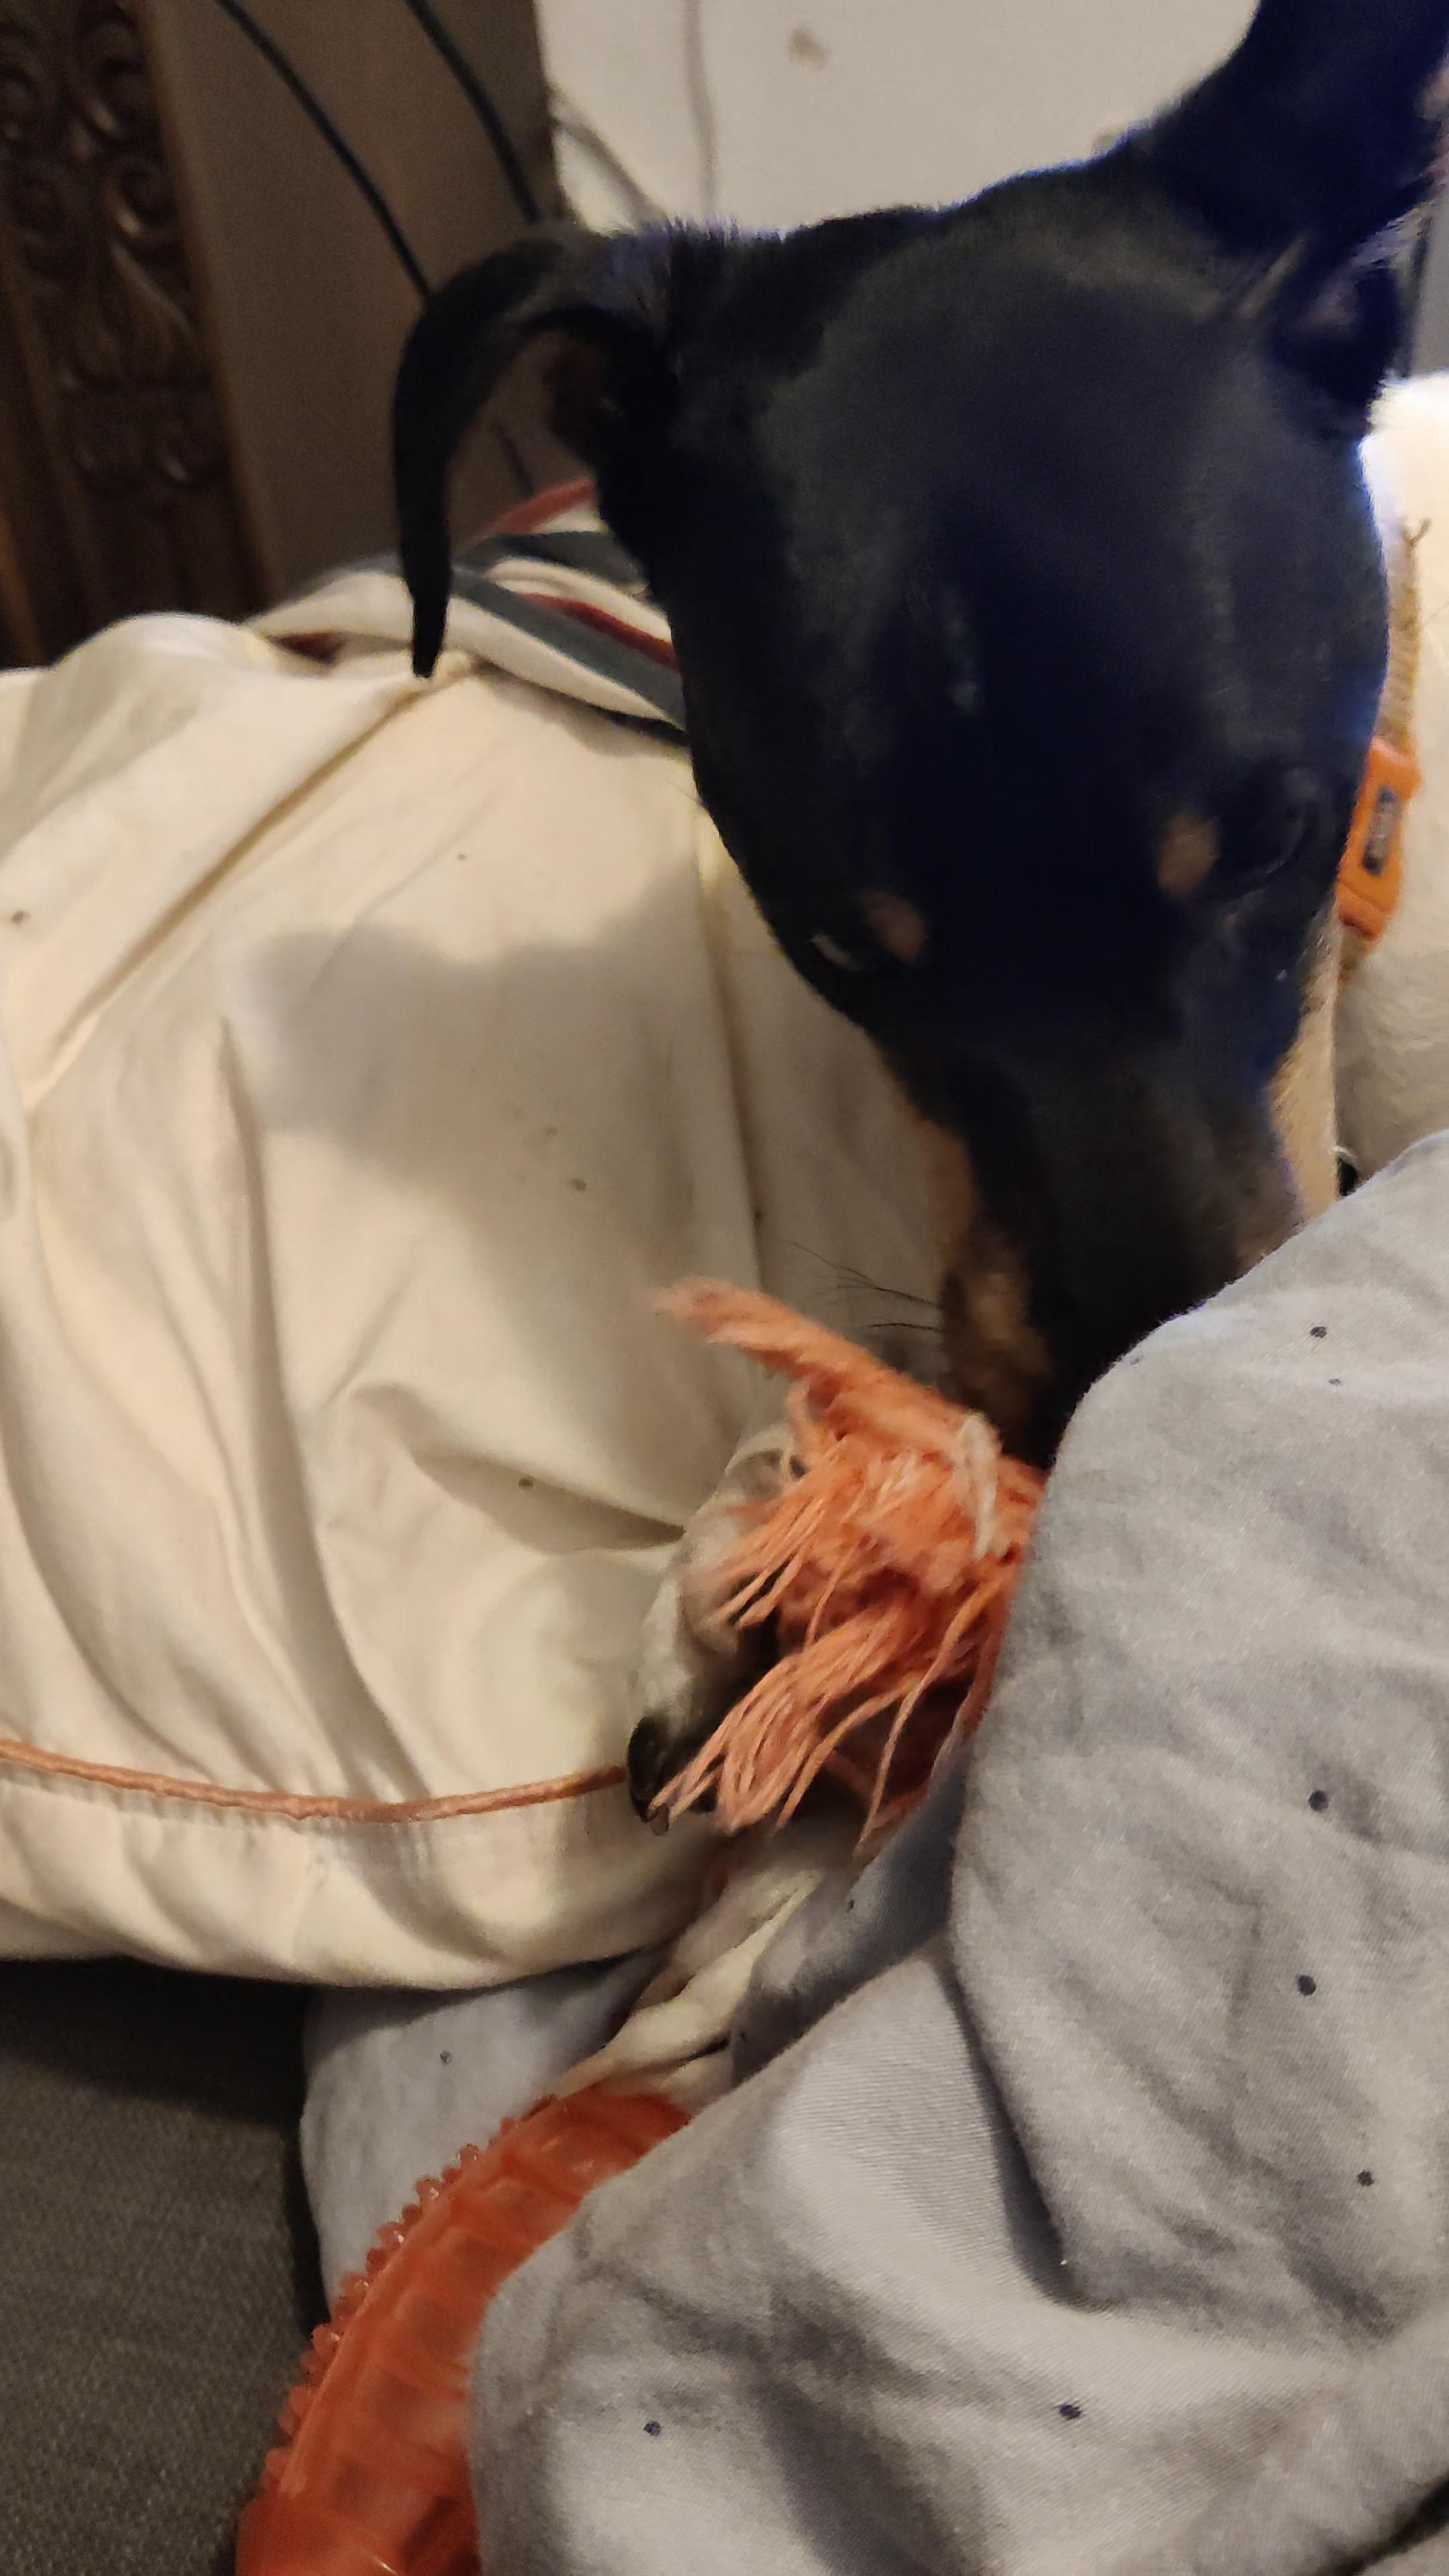Dog: (377, 0, 1449, 2123)
